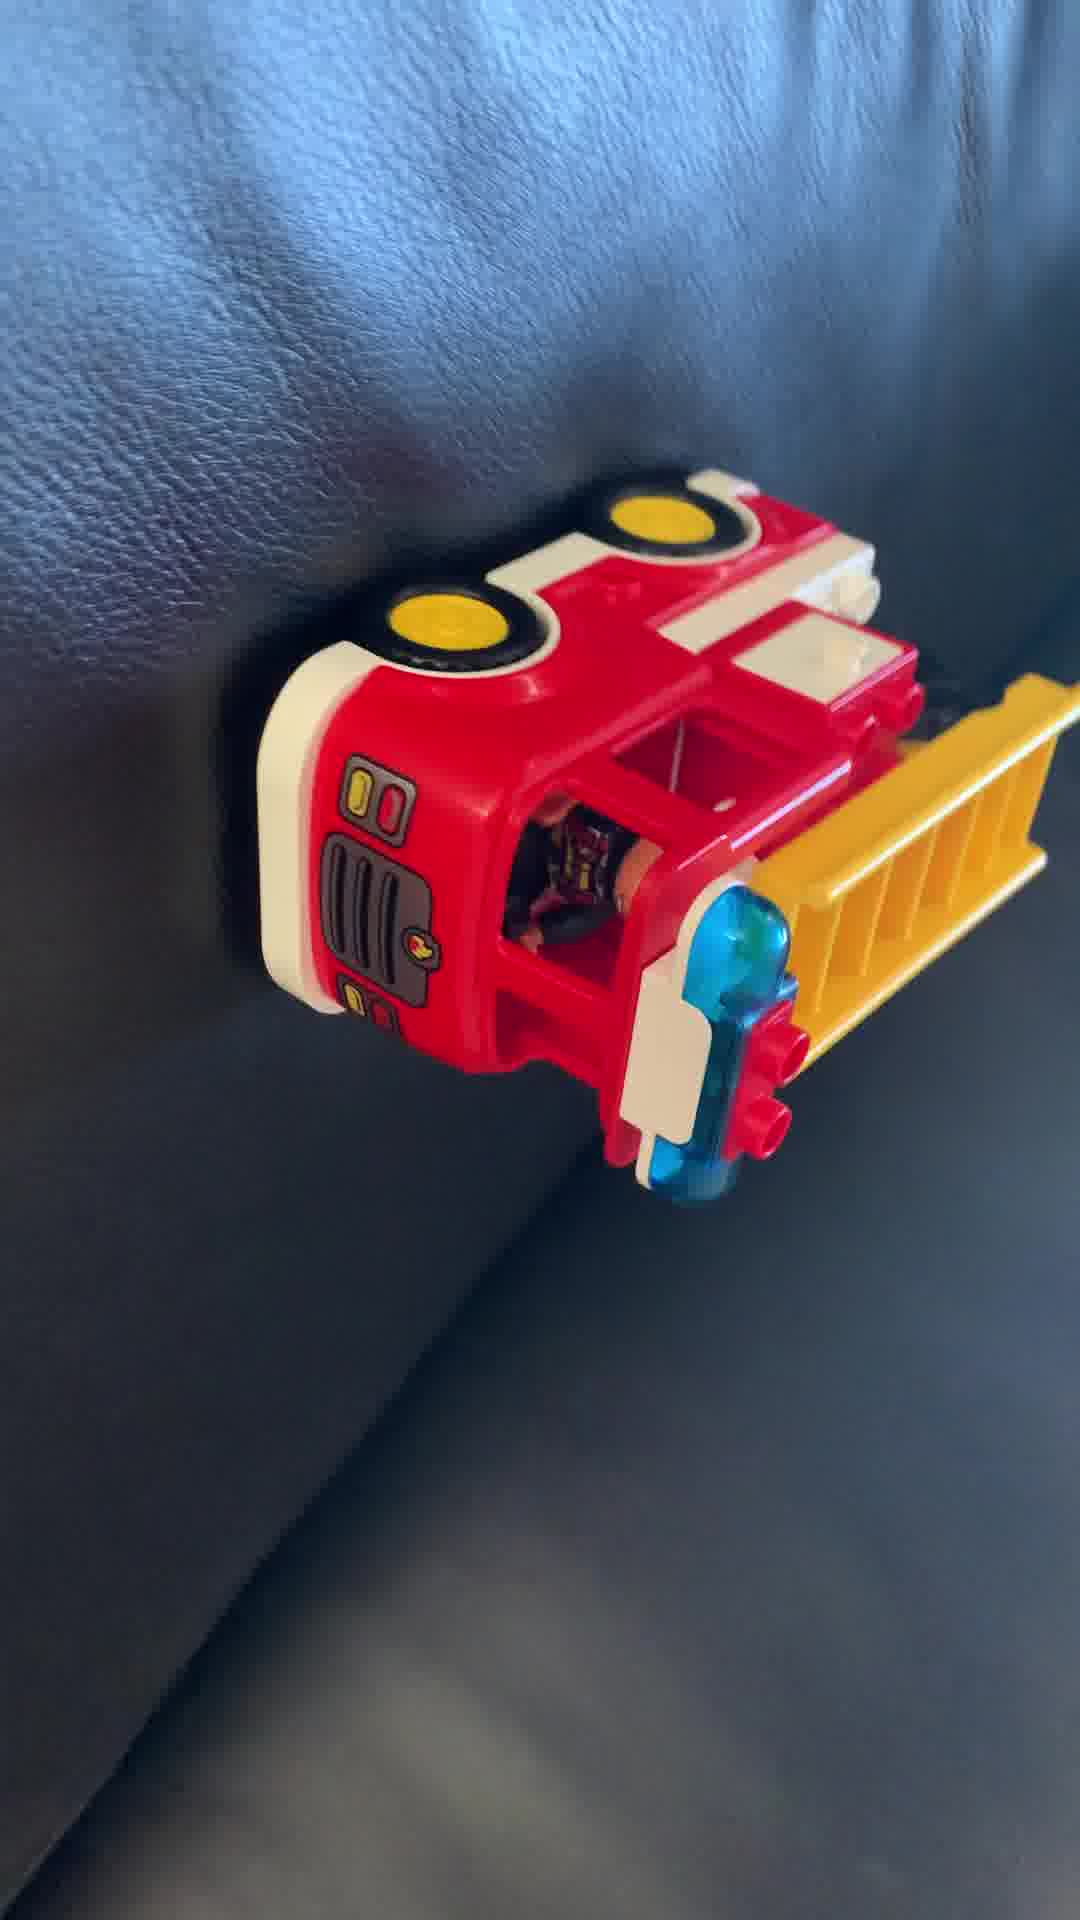lego fire truck: (256, 456, 1080, 1215)
